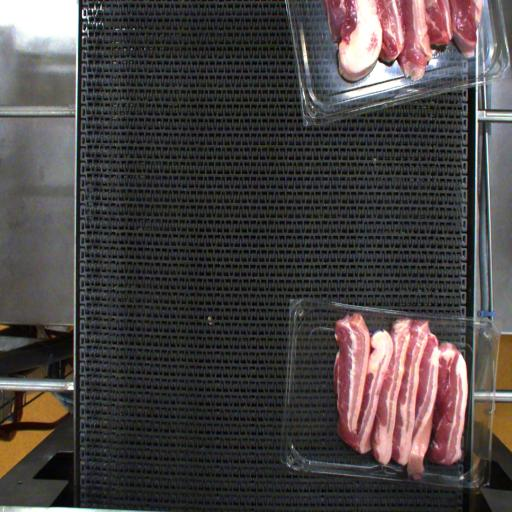twisted-meat: (403, 339, 432, 486)
